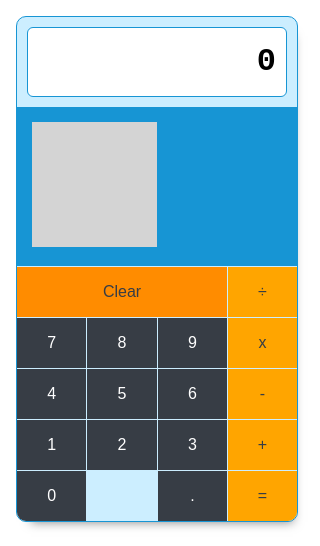
displays touched numbers in the screen
Click the button with test id "number-1": x=52, y=445 [17,420,86,470]
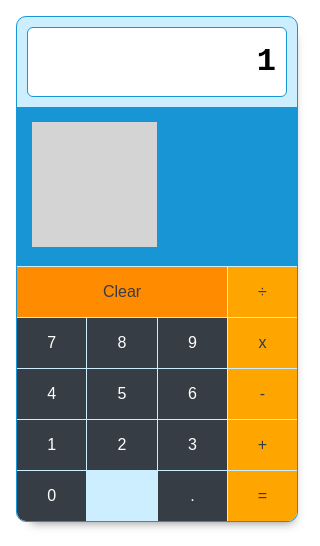
Click the button with test id "number-0": x=52, y=496 [17,471,86,521]
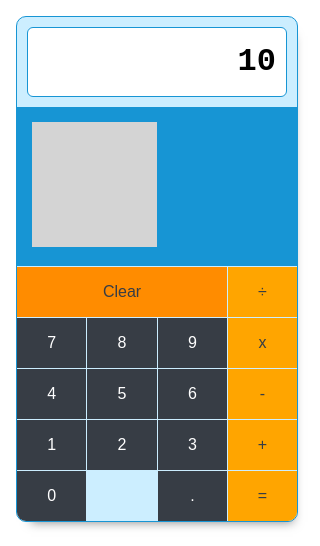
Click the button with test id "number-2": x=122, y=445 [87,420,157,470]
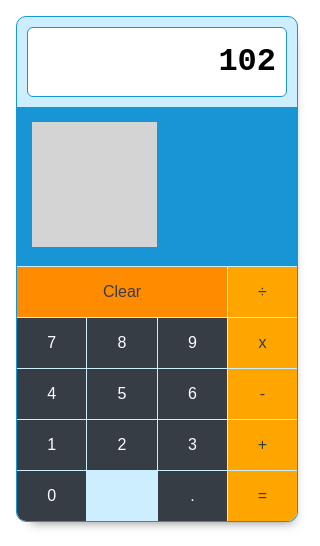
Click the button with test id "number-3": x=192, y=445 [158,420,227,470]
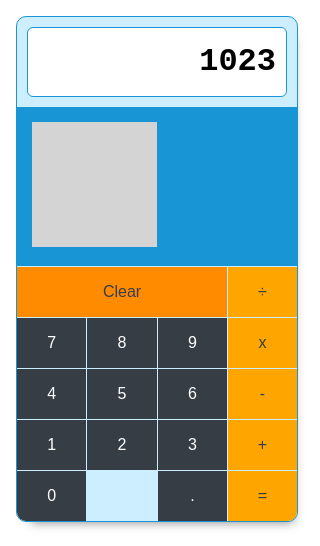
Result: the text with test id "display" reads "1023" at [199,43,276,80]
